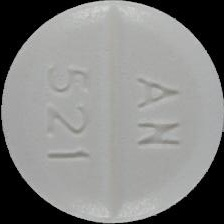43063-405: (0, 0, 224, 224)
